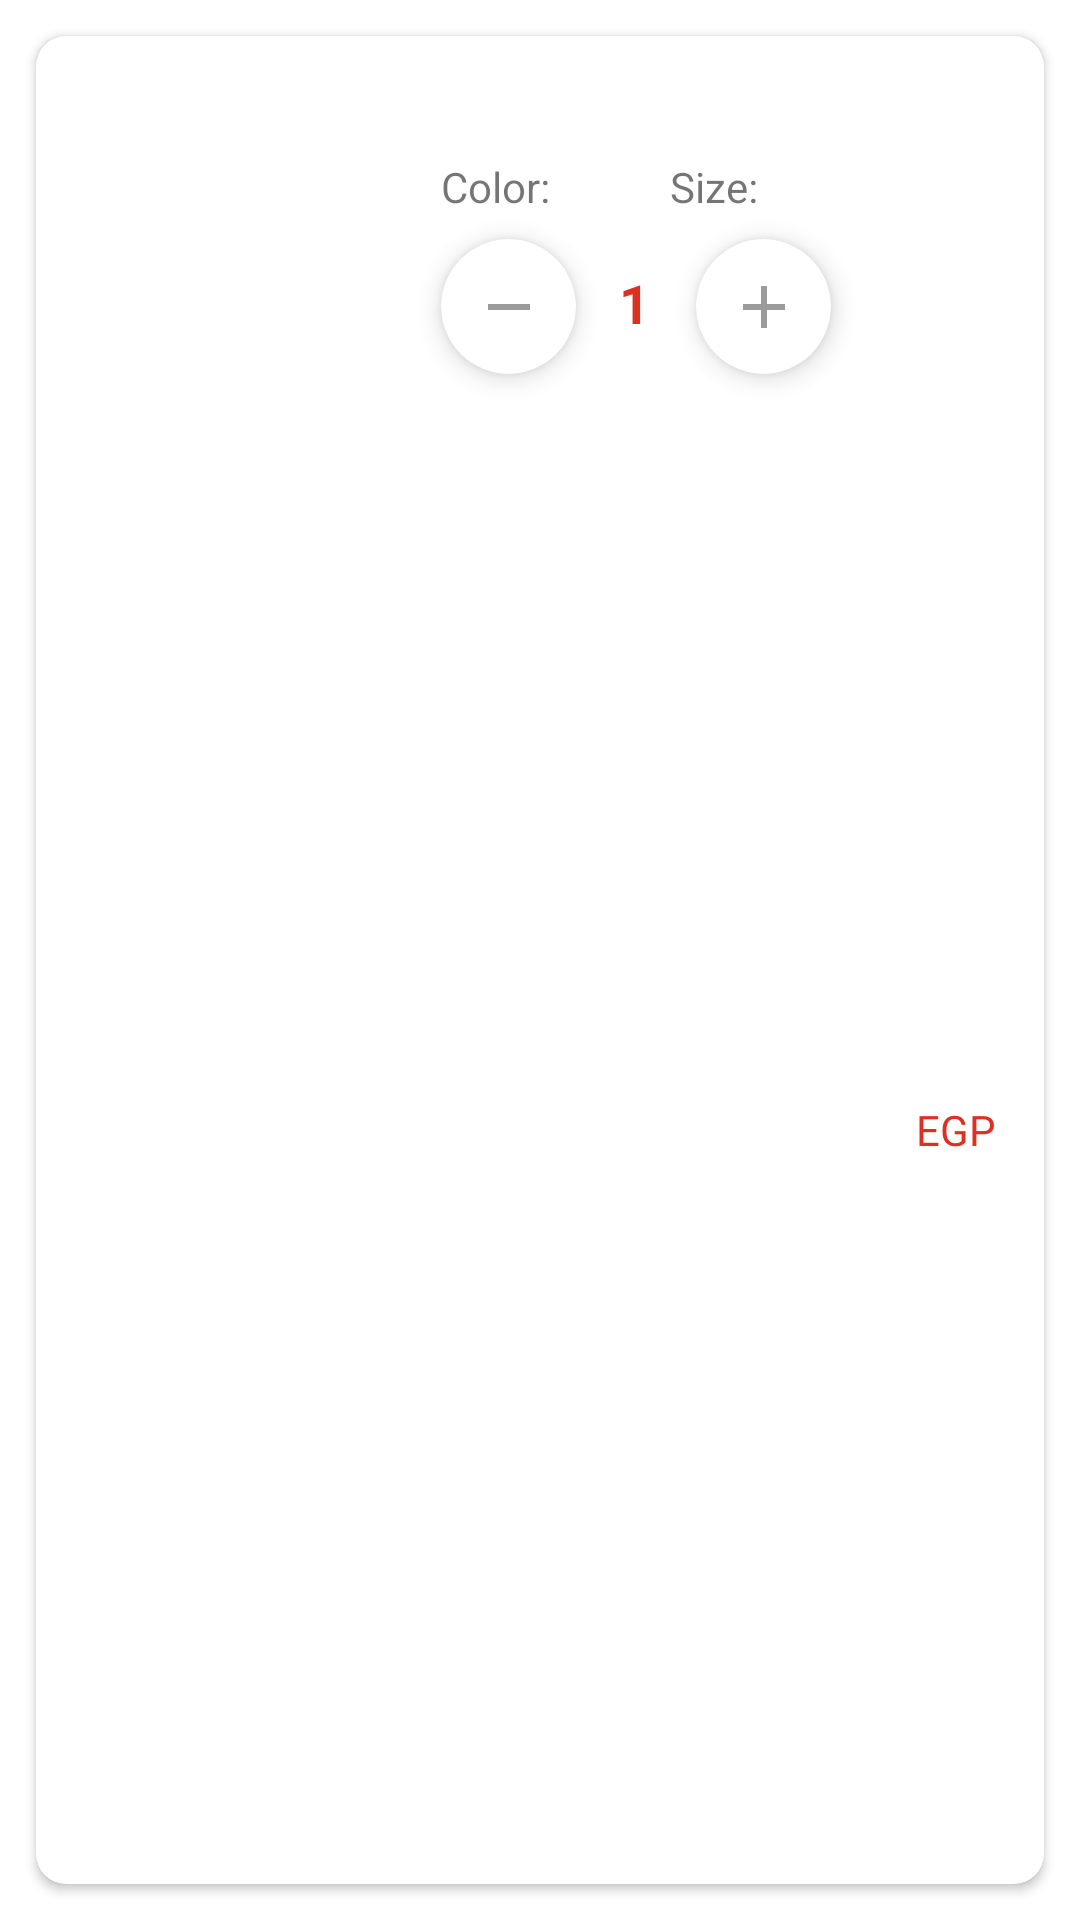

Point at icon controls on the screen. Image size 1080px×1920px, points as (x=x, y=y).
add: (x=776, y=329)
remove: (x=505, y=339)
